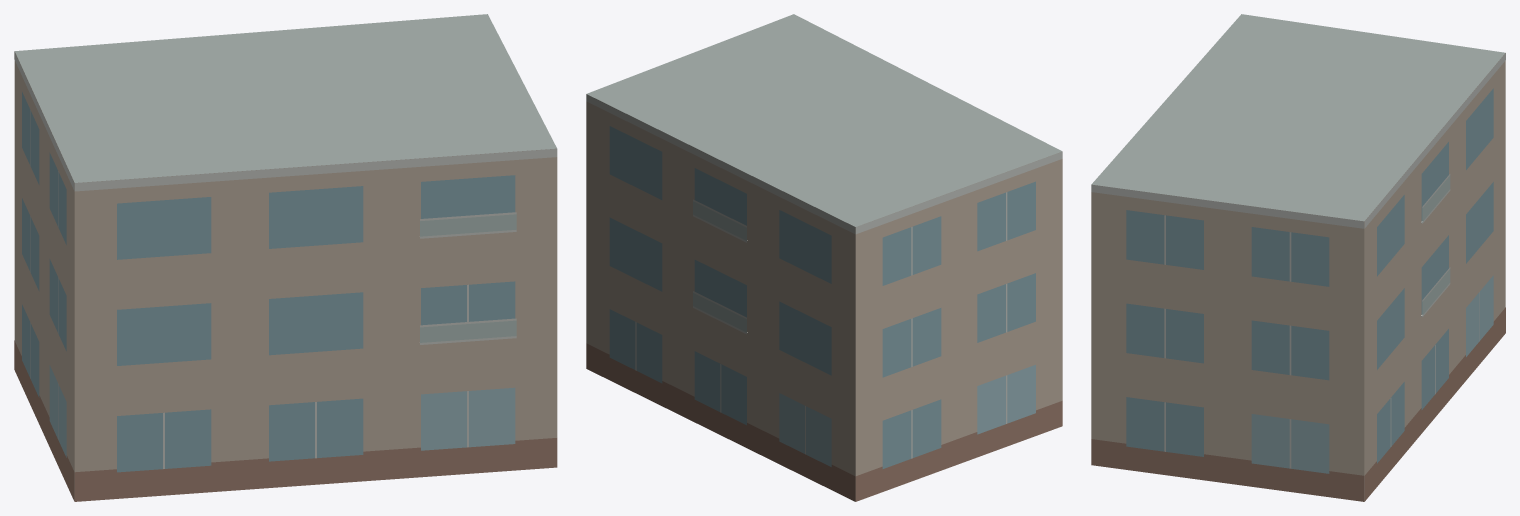
File: survey-upis-33034438.glb
3 views of the same model, side by side, from view 1: azimuth 30°, elevation 25°; view 2: azimuth 150°, elevation 25°; view 3: azimuth 270°, elevation 25° (orthographic). The views are drawn at different scales.
Visible parts, largest first — view 1: survey-upis-33034438.tmp; view 2: survey-upis-33034438.tmp; view 3: survey-upis-33034438.tmp.
Boxes of the visible parts, x1=… form: survey-upis-33034438.tmp: x1=14, y1=14, x2=557, y2=501; survey-upis-33034438.tmp: x1=586, y1=14, x2=1062, y2=501; survey-upis-33034438.tmp: x1=1091, y1=14, x2=1505, y2=501.
Size of the model in its own units: 14.52 by 9.15 by 12.26.
